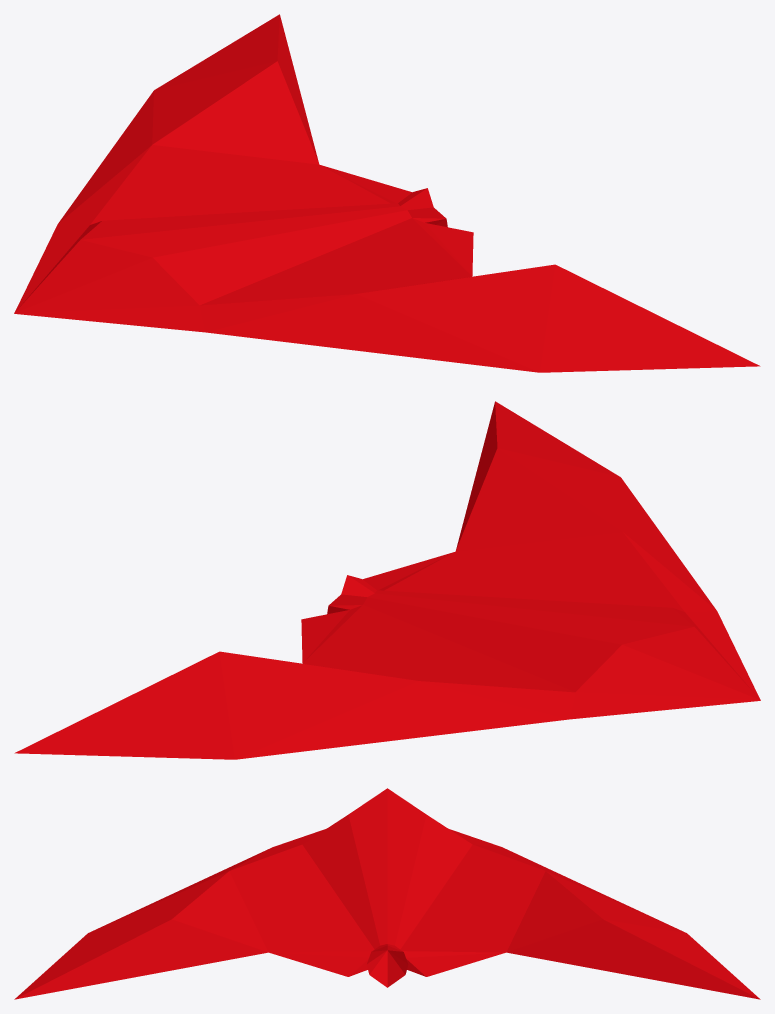
The model's file is ship.fbx.
The picture shows the model from 3 angles, top to bottom: view 1: azimuth 30°, elevation 25°; view 2: azimuth 150°, elevation 25°; view 3: azimuth 270°, elevation 25°; orthographic projection. The views are drawn at different scales.
Parts seen in each view (by area): view 1: Cube; view 2: Cube; view 3: Cube.
Boxes of the visible parts, x1=… form: Cube: x1=14, y1=14, x2=760, y2=372; Cube: x1=14, y1=401, x2=760, y2=759; Cube: x1=14, y1=788, x2=760, y2=999.
Bounding box in the file's own units: 6.03 × 0.9513 × 9.93.
